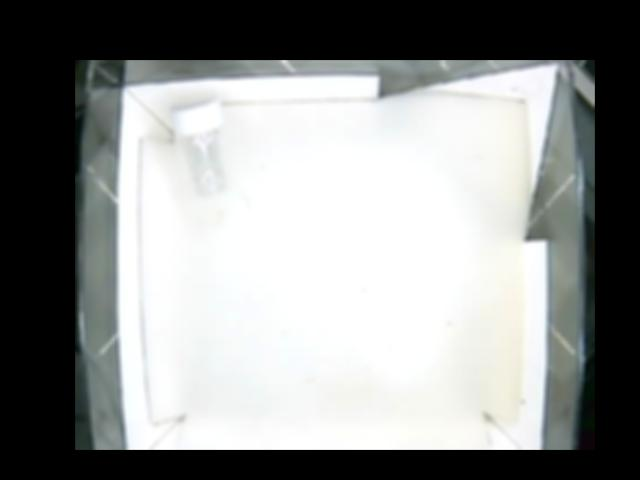Bottle: (171, 99, 229, 199)
